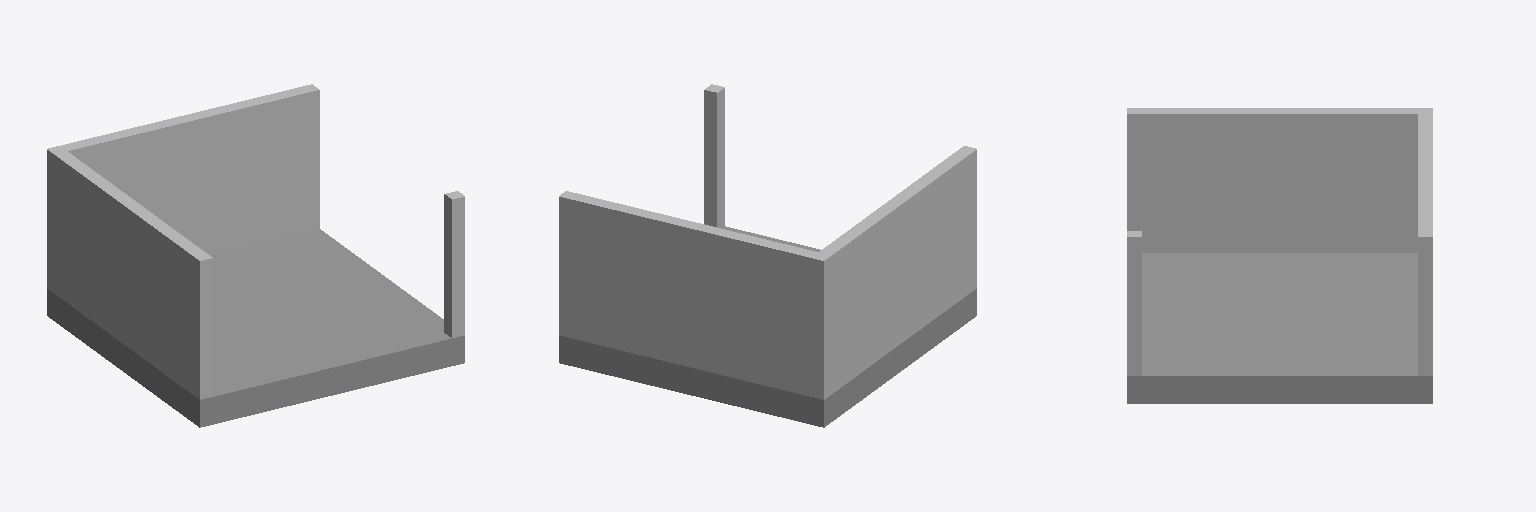
Rendered from hallway-wide_corner_1.obj.
3 renders of one model, left to right at view 1: azimuth 30°, elevation 25°; view 2: azimuth 150°, elevation 25°; view 3: azimuth 270°, elevation 25°, orthographic.
Parts seen in each view (by area): view 1: Cube, Cube.001_Cube.007, Cube.006, Cube.002; view 2: Cube.001_Cube.007, Cube.006, Cube, Cube.002; view 3: Cube, Cube.006, Cube.001_Cube.007, Cube.002.
Part boxes in pixels (left/top/right/bottom): Cube: left=47, top=229, right=464, bottom=427; Cube.001_Cube.007: left=47, top=84, right=319, bottom=290; Cube.006: left=47, top=146, right=212, bottom=399; Cube.002: left=444, top=191, right=464, bottom=337; Cube.001_Cube.007: left=559, top=191, right=831, bottom=399; Cube.006: left=811, top=146, right=976, bottom=399; Cube: left=559, top=226, right=976, bottom=427; Cube.002: left=704, top=84, right=724, bottom=228; Cube: left=1127, top=253, right=1432, bottom=403; Cube.006: left=1127, top=108, right=1422, bottom=252; Cube.001_Cube.007: left=1418, top=108, right=1432, bottom=375; Cube.002: left=1127, top=231, right=1141, bottom=375.
Bounding box in the file's own units: 10 × 6 × 10.